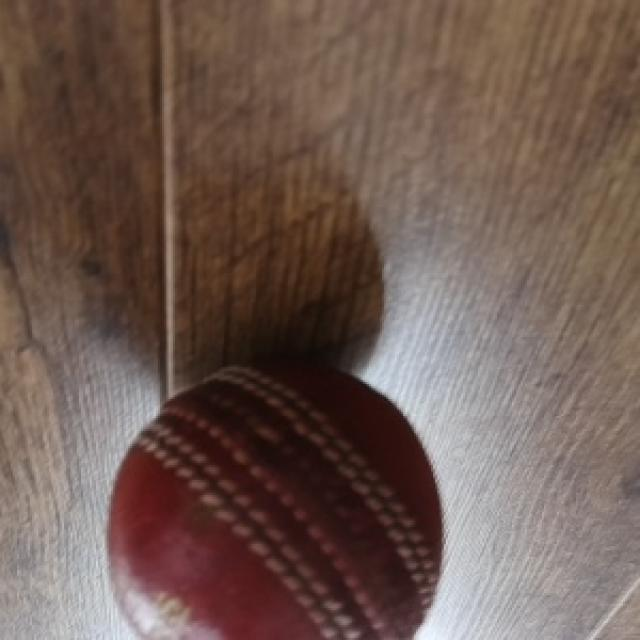ball: (105, 363, 444, 640)
